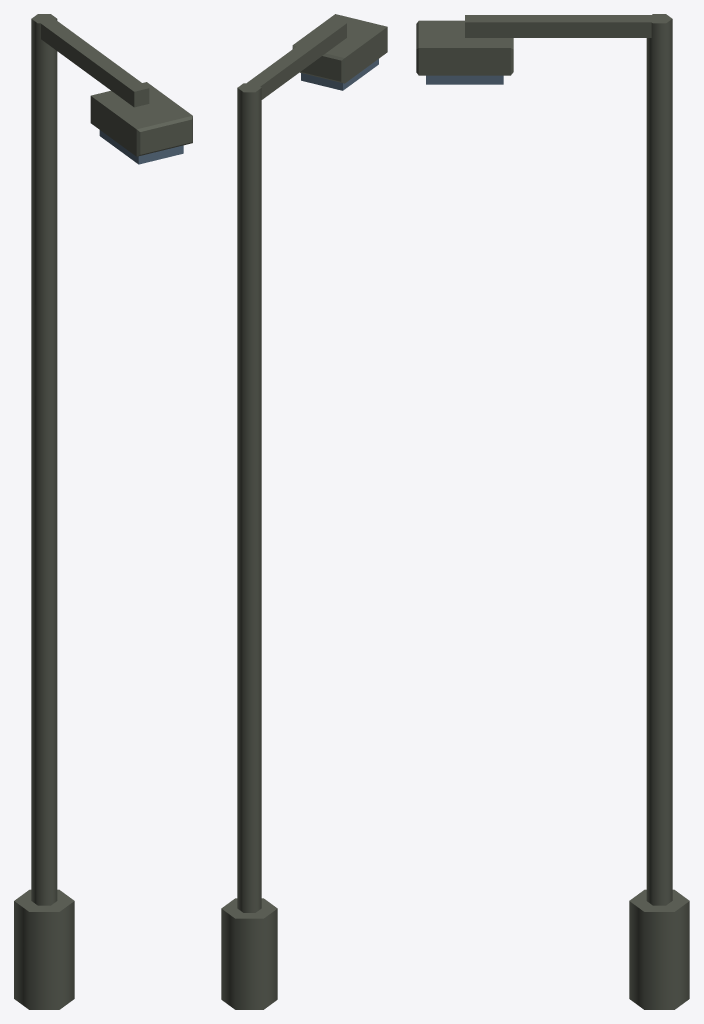
The model's file is asset-props-lamp-post.glb.
3 renders of one model, left to right at view 1: azimuth 30°, elevation 25°; view 2: azimuth 150°, elevation 25°; view 3: azimuth 270°, elevation 25°, orthographic. The views are drawn at different scales.
Parts seen in each view (by area): view 1: material-batch-0, material-batch-1; view 2: material-batch-0, material-batch-1; view 3: material-batch-0, material-batch-1.
Part boxes in pixels (bbox=[...]): material-batch-0: bbox=[14, 14, 192, 1009]; material-batch-1: bbox=[99, 130, 183, 164]; material-batch-0: bbox=[221, 14, 387, 1009]; material-batch-1: bbox=[301, 59, 378, 90]; material-batch-0: bbox=[416, 14, 689, 1009]; material-batch-1: bbox=[426, 75, 503, 84].
Size of the model in its own units: 0.3 by 5 by 1.26.
